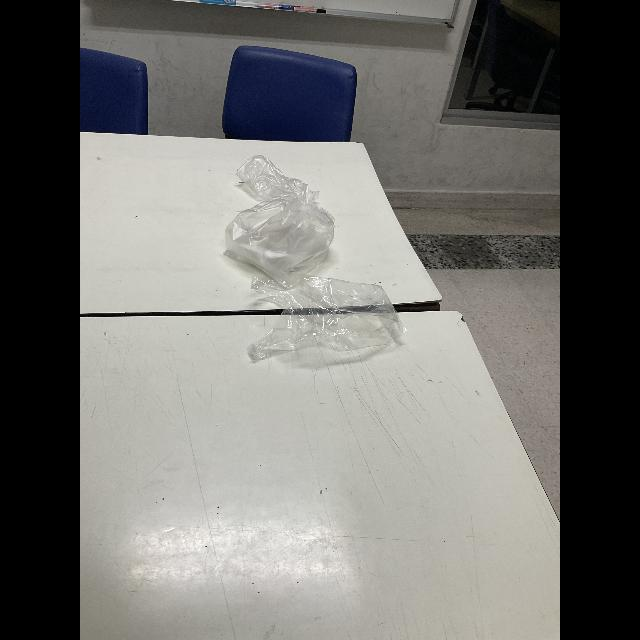plastic_bag: (242, 277, 408, 367), (220, 187, 344, 283), (233, 148, 313, 200)
